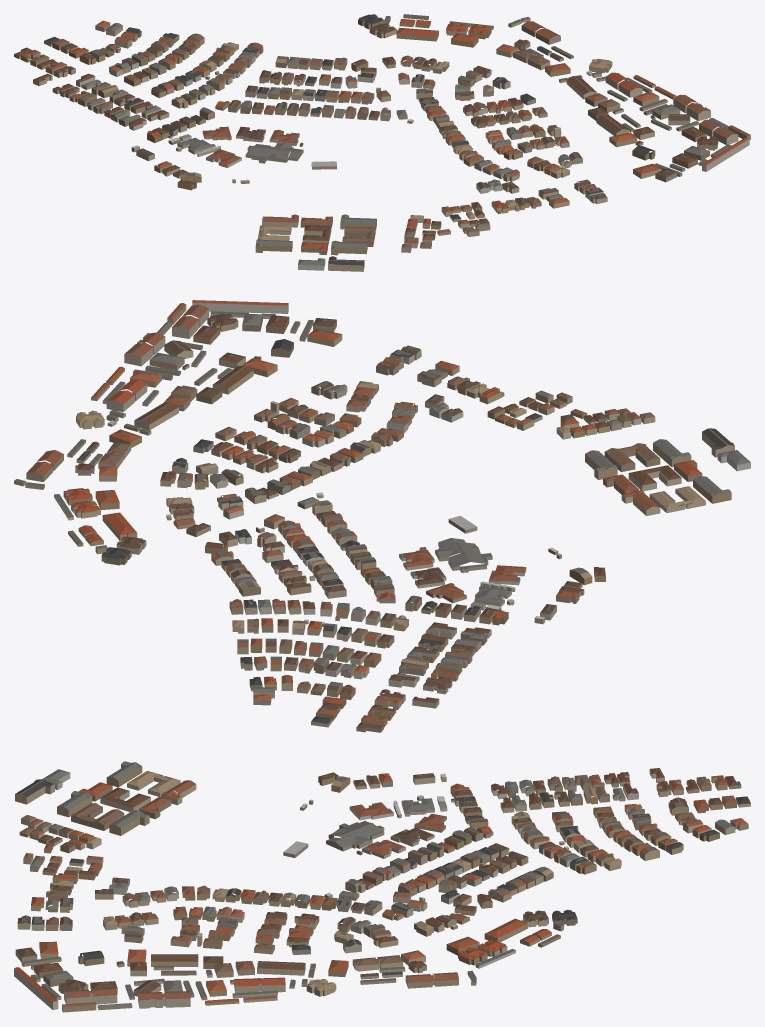
The picture shows the model from 3 angles, top to bottom: view 1: azimuth 30°, elevation 25°; view 2: azimuth 150°, elevation 25°; view 3: azimuth 270°, elevation 25°; orthographic projection. The views are drawn at different scales.
Parts seen in each view (by area): view 1: buildings_r2_c5_lod1; view 2: buildings_r2_c5_lod1; view 3: buildings_r2_c5_lod1.
Boxes of the visible parts, x1,y1,x2,y2 form: buildings_r2_c5_lod1: (14,14,750,271); buildings_r2_c5_lod1: (14,300,750,732); buildings_r2_c5_lod1: (14,761,750,1012).
Size of the model in its own units: 685 by 43.04 by 802.
